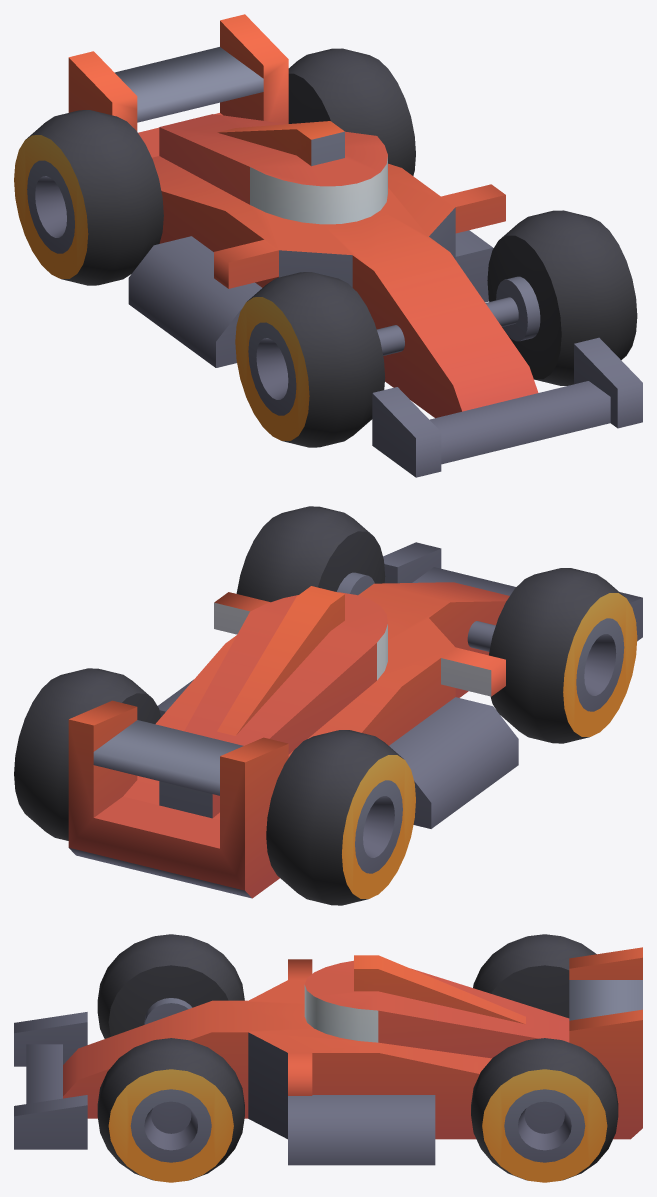
File: race.fbx
3 renders of one model, top to bottom at view 1: azimuth 30°, elevation 25°; view 2: azimuth 150°, elevation 25°; view 3: azimuth 270°, elevation 25°, orthographic. The views are drawn at different scales.
Visible parts, largest first — view 1: body, wheel-back-right, wheel-front-right, wheel-front-left, wheel-back-left; view 2: body, wheel-back-right, wheel-front-right, wheel-back-left, wheel-front-left; view 3: body, wheel-back-left, wheel-front-left, wheel-front-right, wheel-back-right.
Boxes of the visible parts, left/top/right/bottom form: body: left=68, top=14, right=642, bottom=477; wheel-back-right: left=14, top=110, right=163, bottom=285; wheel-front-right: left=235, top=272, right=385, bottom=447; wheel-front-left: left=487, top=210, right=637, bottom=385; wheel-back-left: left=288, top=48, right=415, bottom=175; body: left=68, top=542, right=642, bottom=898; wheel-back-right: left=266, top=730, right=415, bottom=905; wheel-front-right: left=489, top=568, right=637, bottom=743; wheel-back-left: left=14, top=668, right=161, bottom=840; wheel-front-left: left=236, top=506, right=385, bottom=602; body: left=14, top=947, right=642, bottom=1165; wheel-back-left: left=471, top=1038, right=618, bottom=1182; wheel-front-left: left=97, top=1038, right=244, bottom=1182; wheel-front-right: left=97, top=934, right=244, bottom=1038; wheel-back-right: left=473, top=934, right=596, bottom=1018.
Size of the model in its own units: 130 by 73.25 by 256.
Materials: 1 (1 with a texture image).
